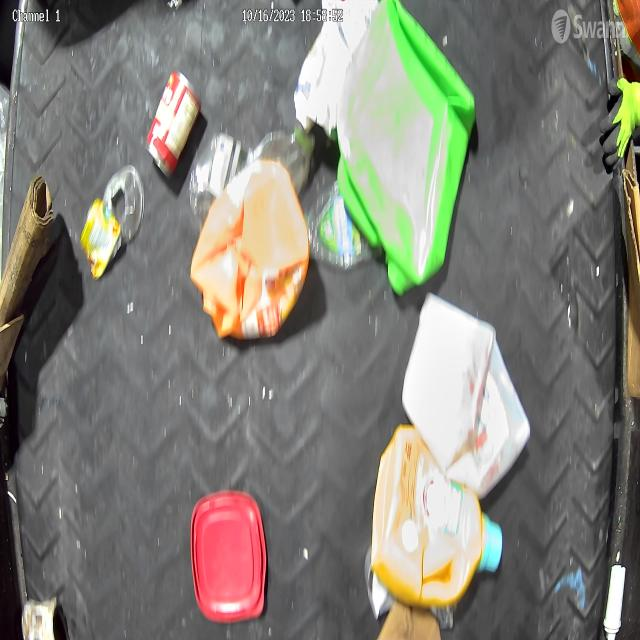can: (145, 69, 203, 176), (80, 196, 122, 278), (104, 163, 145, 244), (20, 595, 69, 640), (365, 546, 392, 620)
milk_jug: (402, 292, 530, 500)
non_white_jug: (337, 0, 476, 297), (370, 424, 503, 608), (190, 156, 310, 342)
plastic_bottle: (308, 179, 382, 272), (250, 125, 316, 194)
